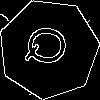Q: (23, 23, 77, 68)
